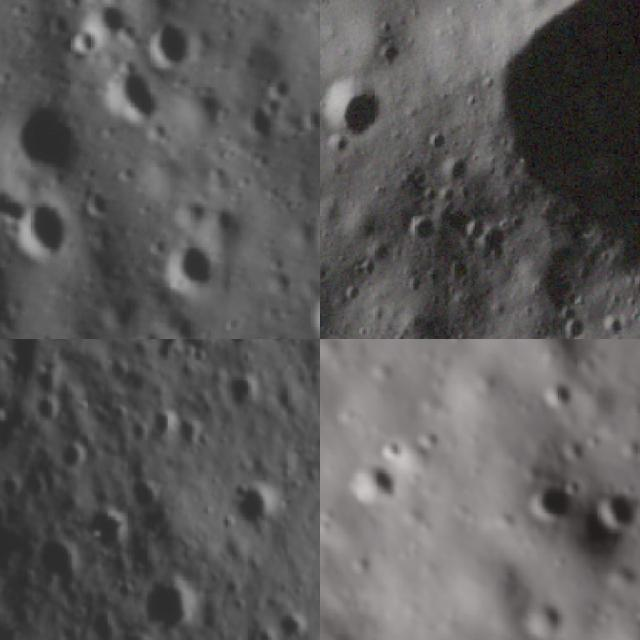crater: (471, 0, 640, 273), (320, 73, 389, 146), (15, 105, 80, 178), (170, 230, 230, 300), (17, 193, 69, 264), (140, 582, 200, 639), (223, 480, 281, 532), (581, 489, 640, 540), (80, 507, 138, 558), (514, 476, 580, 519), (149, 24, 195, 79), (38, 532, 86, 584), (113, 68, 153, 126), (538, 371, 589, 415), (61, 13, 103, 65), (523, 596, 572, 640), (356, 460, 396, 510), (172, 412, 215, 458), (224, 368, 266, 414), (124, 474, 162, 511), (146, 403, 183, 440), (276, 606, 313, 640), (30, 396, 64, 428), (56, 439, 84, 474), (118, 627, 161, 640)
